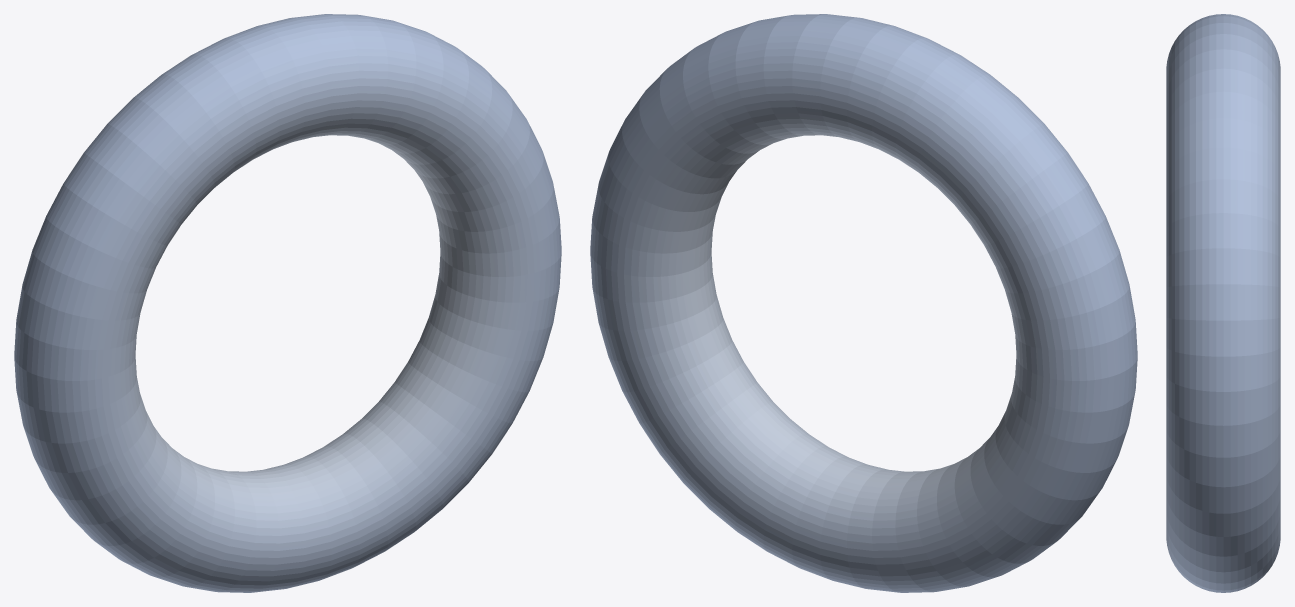
The picture shows the model from 3 angles, left to right: view 1: azimuth 30°, elevation 25°; view 2: azimuth 150°, elevation 25°; view 3: azimuth 270°, elevation 25°; orthographic projection. The views are drawn at different scales.
Parts seen in each view (by area): view 1: world; view 2: world; view 3: world.
Part boxes in pixels (x1,y1,x2,y2): world: [14, 14, 561, 592]; world: [590, 14, 1137, 592]; world: [1166, 14, 1280, 592].
Size of the model in its own units: 24.93 by 24.88 by 4.92.
